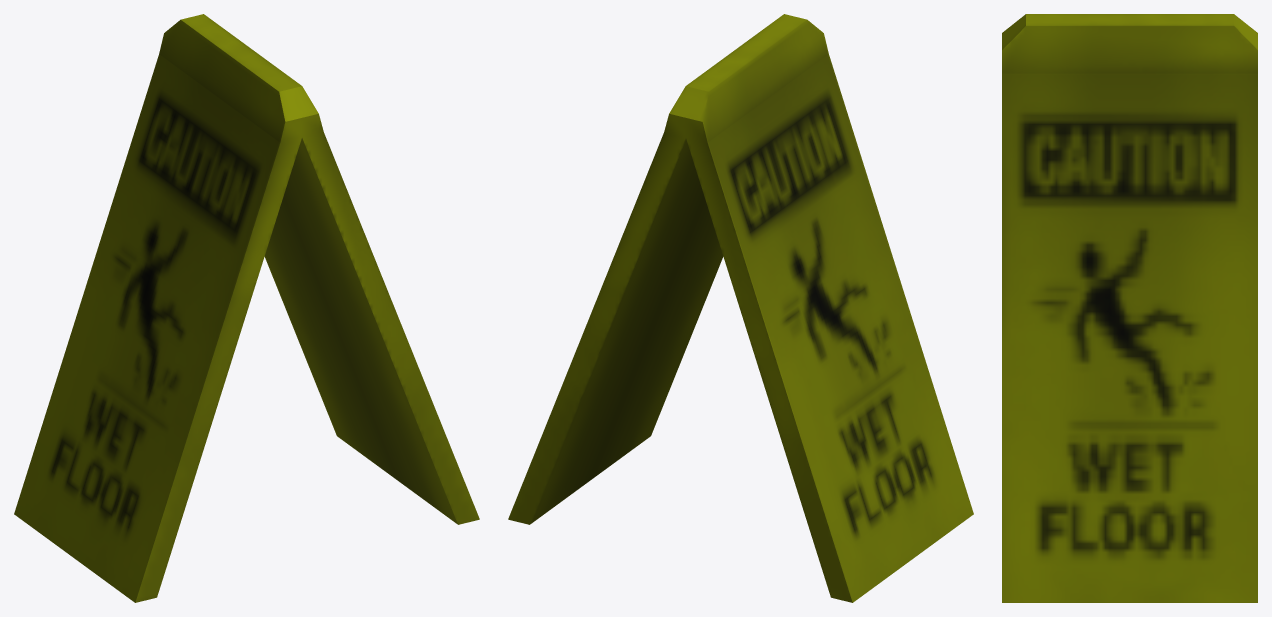
Rendered from wet_floor.obj.
3 views of the same model, side by side, from view 1: azimuth 30°, elevation 25°; view 2: azimuth 150°, elevation 25°; view 3: azimuth 270°, elevation 25° (orthographic). The views are drawn at different scales.
Visible parts, largest first — view 1: wet_floor; view 2: wet_floor; view 3: wet_floor.
Part boxes in pixels (<box>): wet_floor: <box>14,14,479,602</box>; wet_floor: <box>508,14,973,602</box>; wet_floor: <box>1002,14,1257,602</box>.
Size of the model in its own units: 0.9604 by 1.24 by 0.5851.
